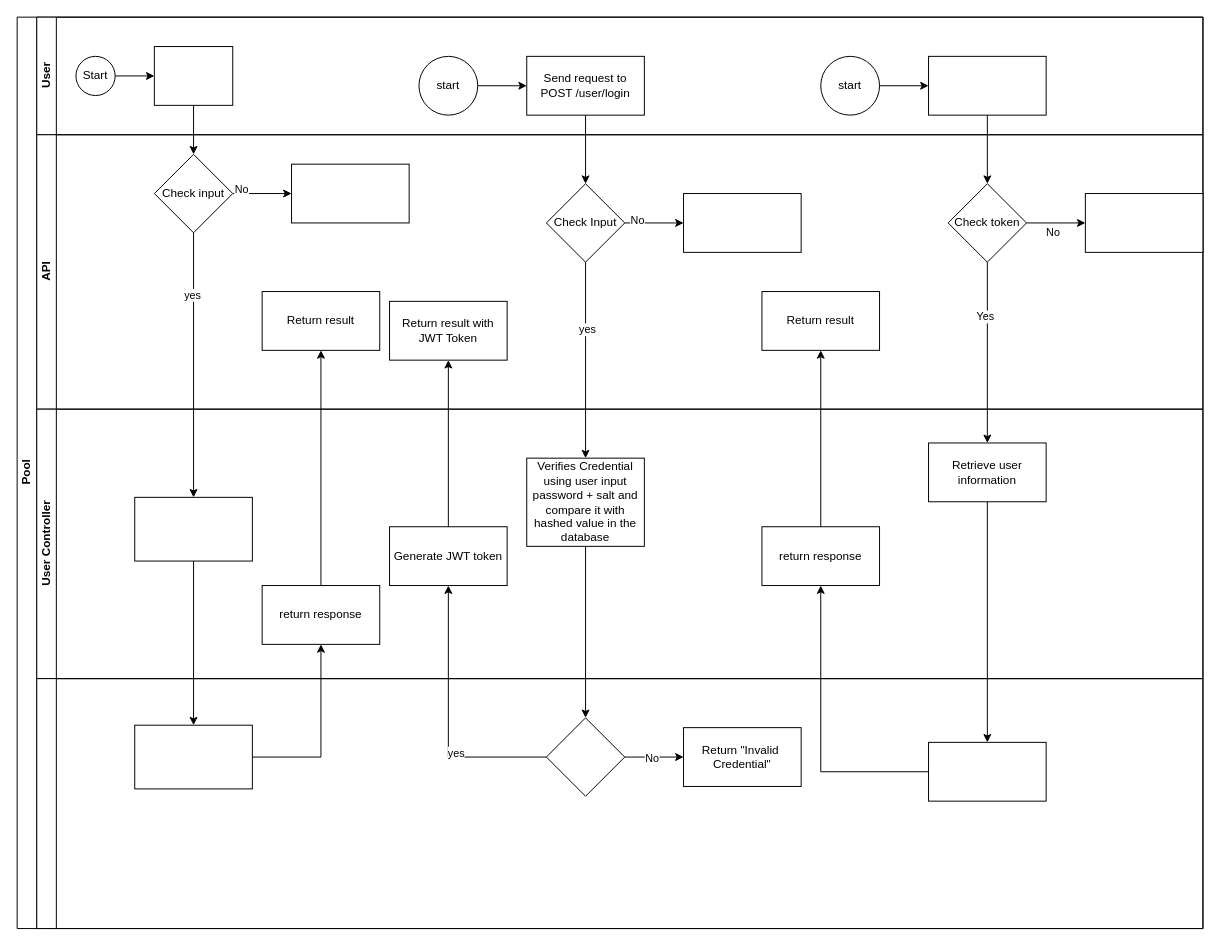
Some shapes in this 1220 by 946 pixel diagram are drawn without their labels. Here are the shapes that lost their labels. From the top down, the box of each, then its label:
(153, 46, 233, 105): Send request to POST /user
(928, 55, 1046, 115): Send request to GET /user with Authorization header
(291, 163, 409, 223): Return "Invalid Parameter'
(683, 193, 801, 252): Return "Invalid Parameter"
(1084, 193, 1203, 252): Return "403 Unauthorized"
(134, 496, 252, 561): Processes user registration
(134, 724, 252, 789): Store new user
(545, 717, 625, 796): Check credential
(928, 741, 1046, 801): Send user data
(36, 678, 1203, 929): Database
